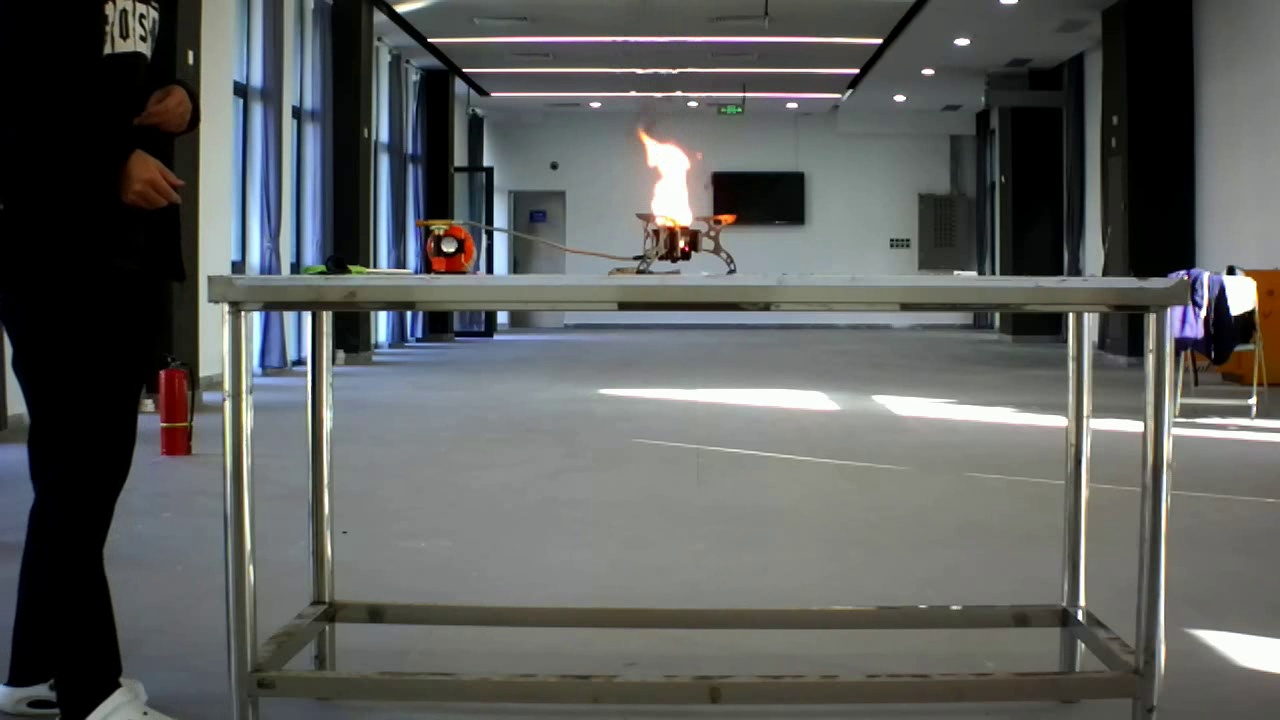Fire: (619, 121, 742, 260)
